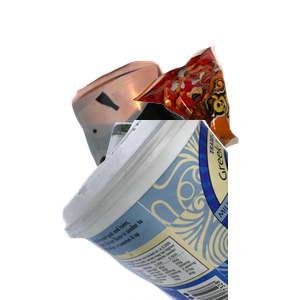glass: (86, 120, 277, 300)
metal: (69, 58, 300, 238)
plastic: (60, 120, 300, 300)
trash: (130, 43, 300, 190)
